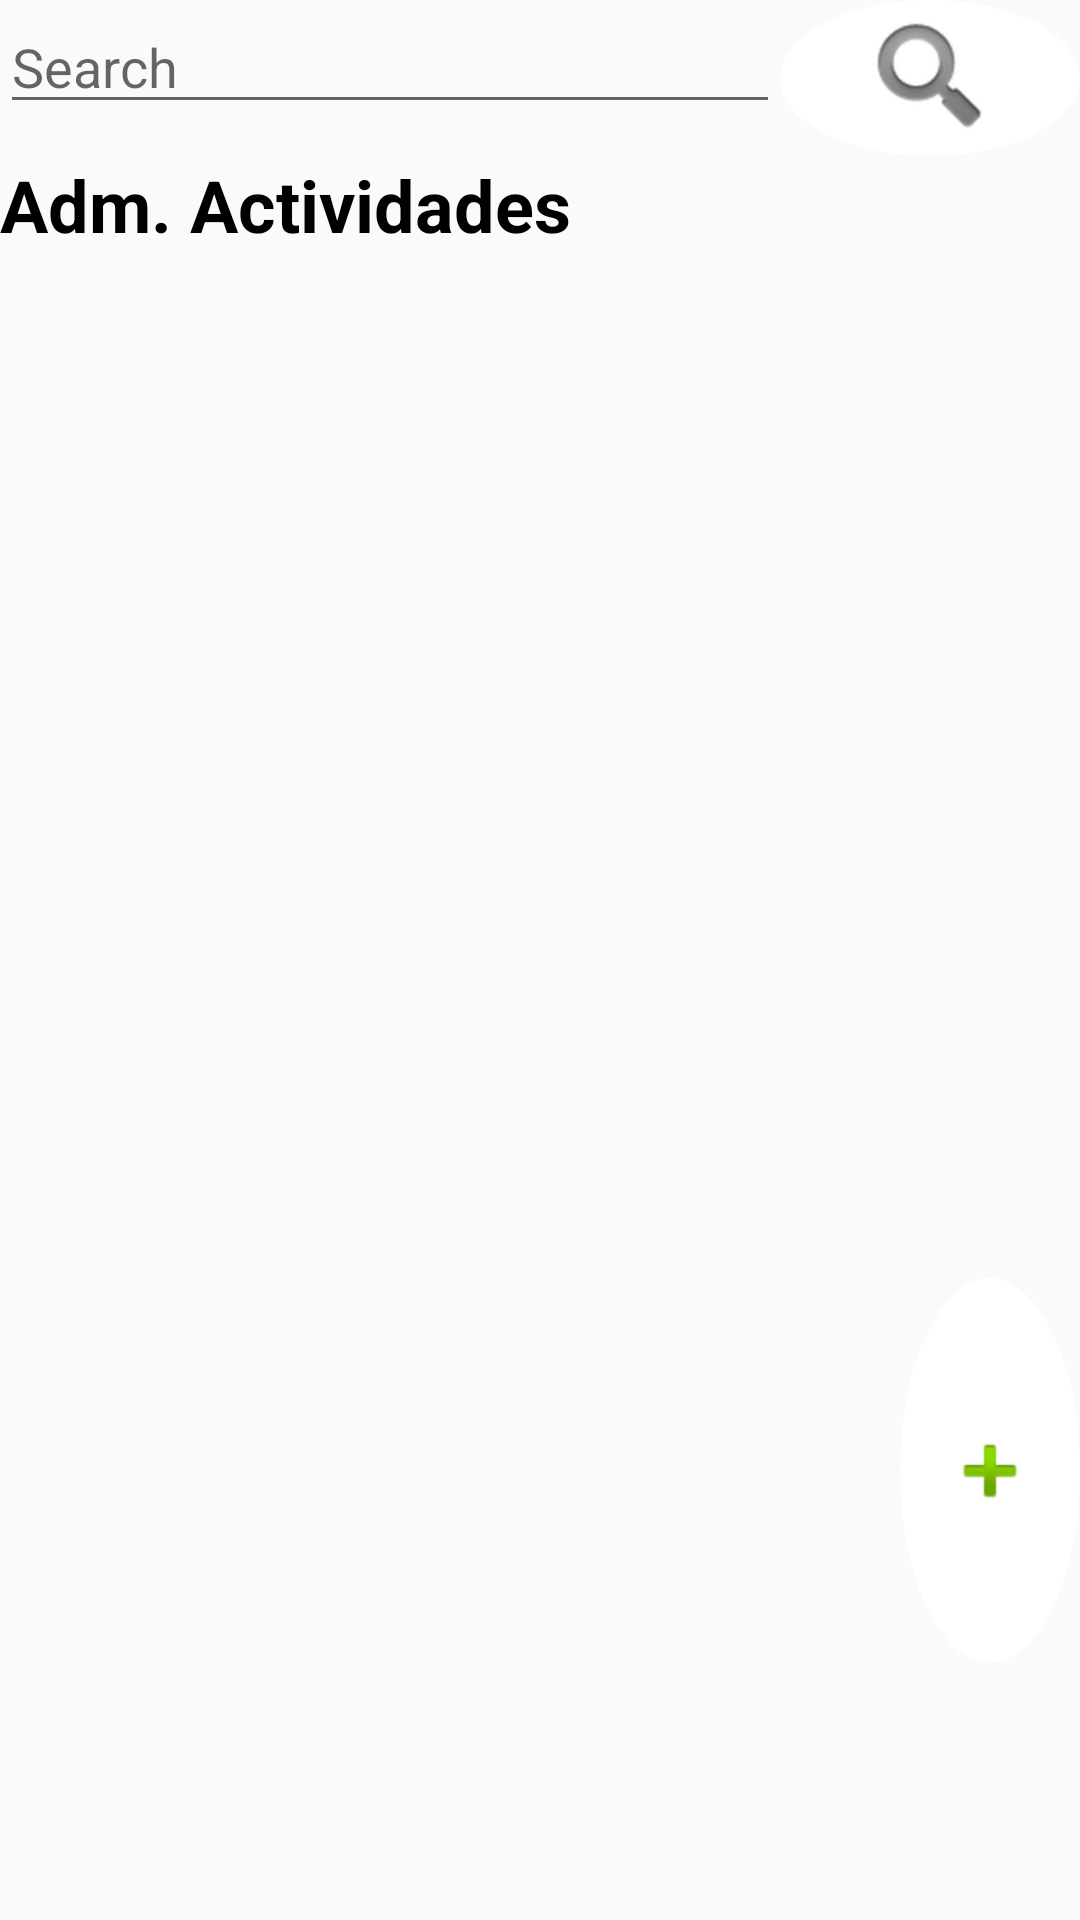

Icons on this 1080x1920 Android screen, each with its box as box(x1, y1, x2, y2):
add: box(963, 1444, 1017, 1498)
